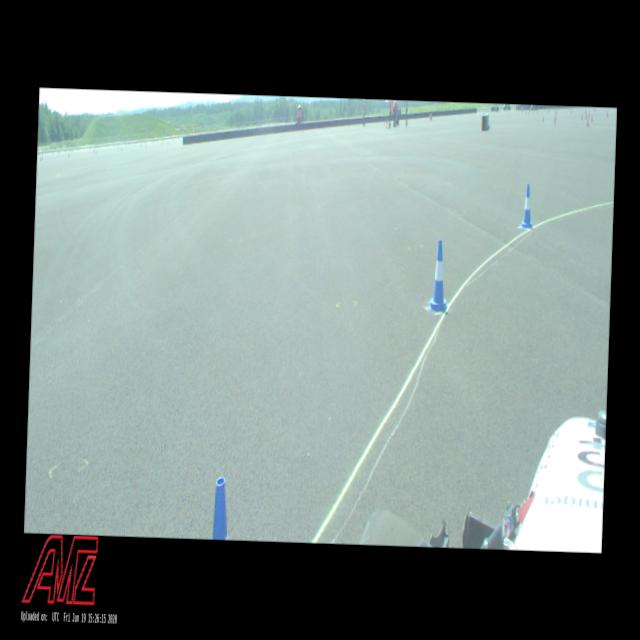blue_cone: (428, 238, 450, 312), (212, 476, 230, 540), (520, 183, 534, 228)
unknown_cone: (586, 117, 588, 126), (554, 115, 556, 124)
